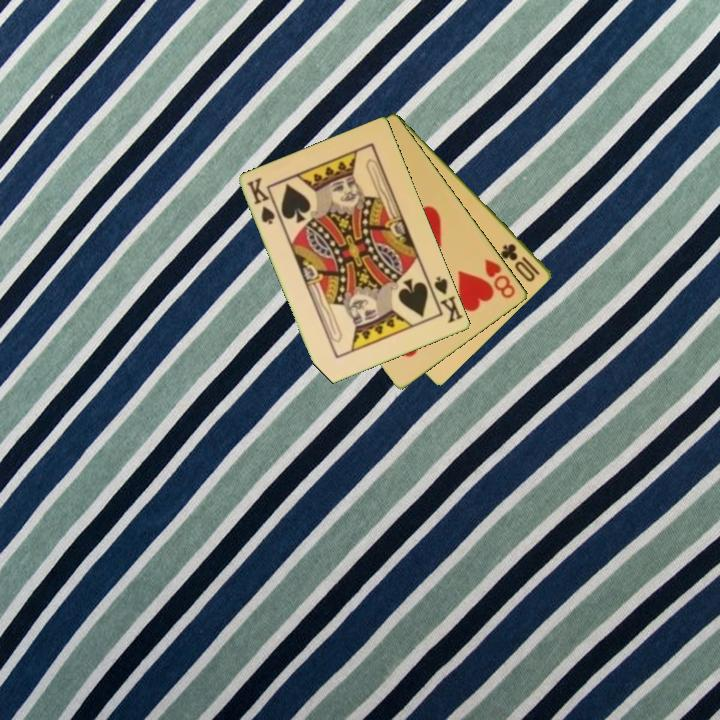10c: (498, 240, 543, 285)
8h: (481, 256, 519, 302)
Ks: (243, 174, 278, 228), (431, 273, 466, 326)
